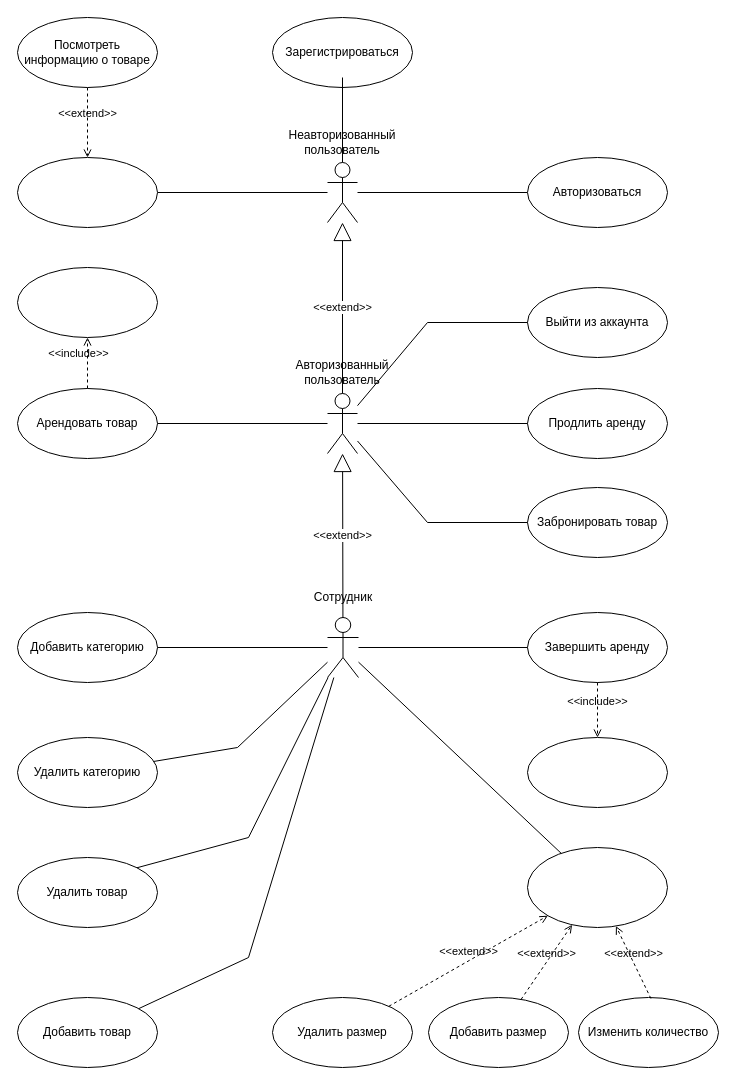
This 736x1085 diagram has some shape labels left out. The shapes that lost their labels are listed below. From the top down, each one's centre as x and y in pixels, then its label:
At pixel 87 192: "Посмотреть каталог".
At pixel 87 302: "Добавить товар в корзину".
At pixel 597 772: "Сформировать счет".
At pixel 597 887: "Редактировать информацию о товаре".
